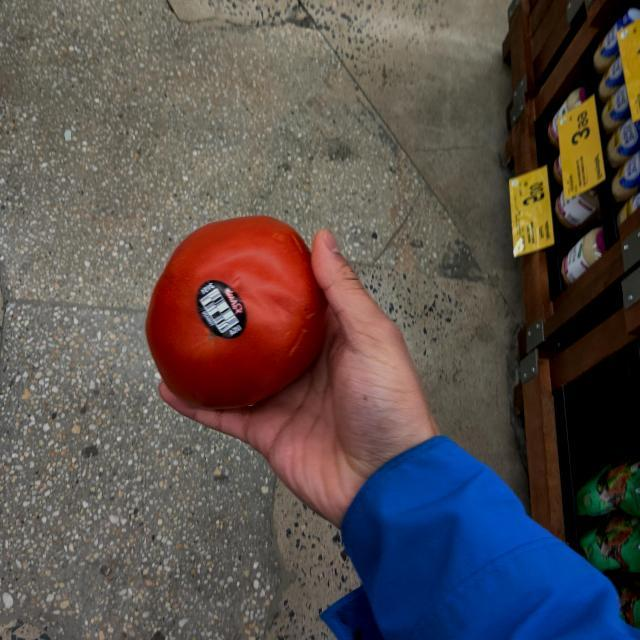tomato: (130, 220, 327, 416)
